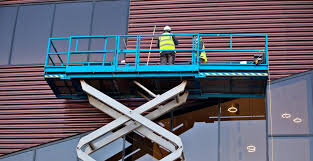Scissor Lift: (43, 32, 271, 161)
